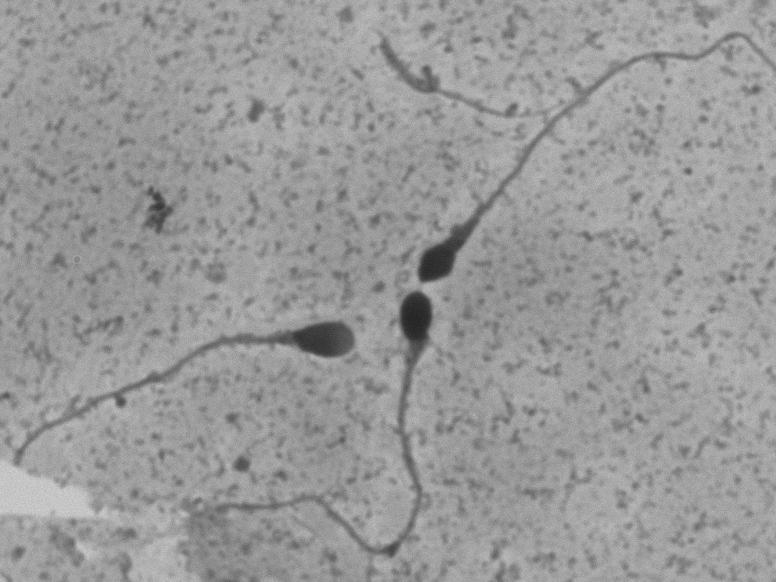Abnormal: (400, 23, 762, 293), (218, 285, 459, 566), (8, 306, 369, 441)
